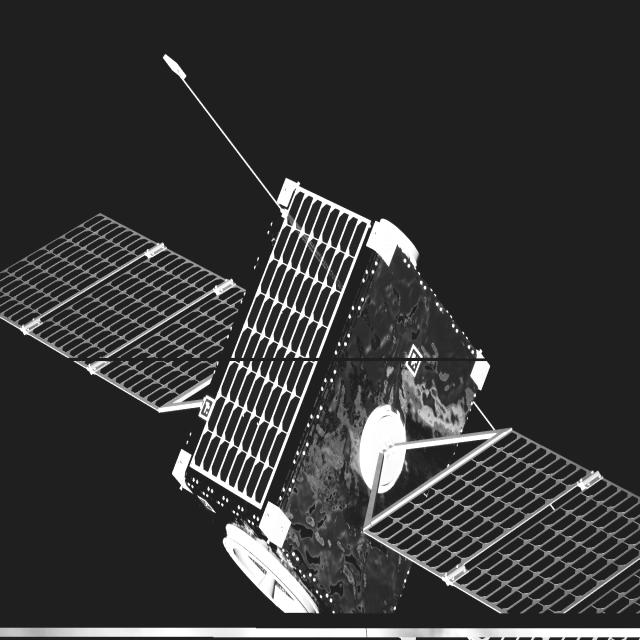satellite: (0, 181, 640, 631)
